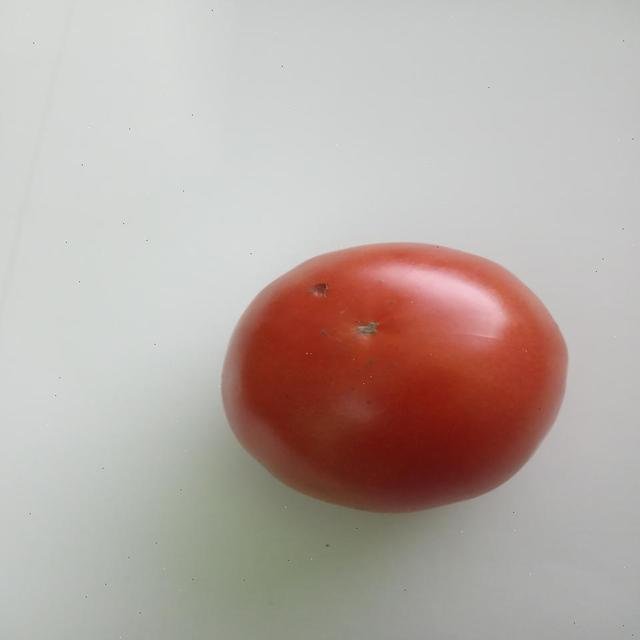Healthy Fruit: (130, 152, 390, 350)
